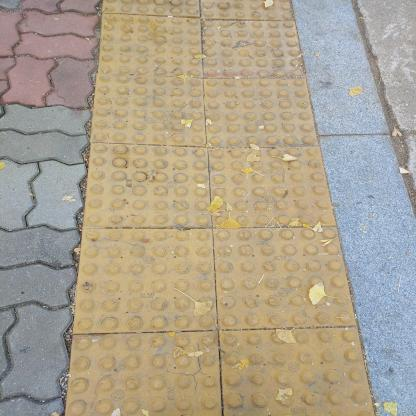podotacti: (53, 2, 382, 416)
